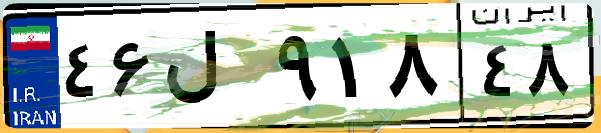1: (330, 28, 385, 110)
4: (57, 26, 110, 100), (475, 38, 525, 113)
6: (110, 28, 158, 98)
8: (385, 28, 445, 110), (525, 38, 570, 115)
9: (270, 28, 330, 110)
ل: (158, 20, 270, 120)
